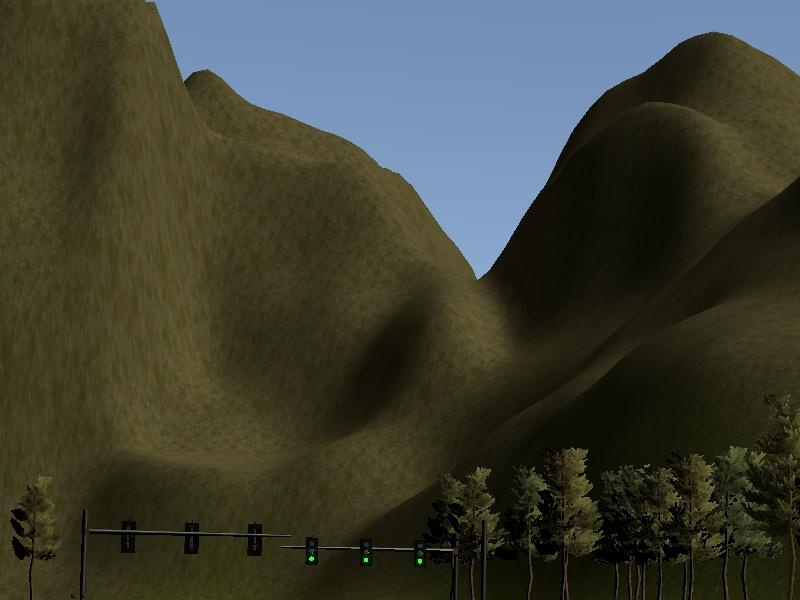green: (410, 535, 427, 571), (303, 535, 321, 568), (360, 538, 374, 568)
